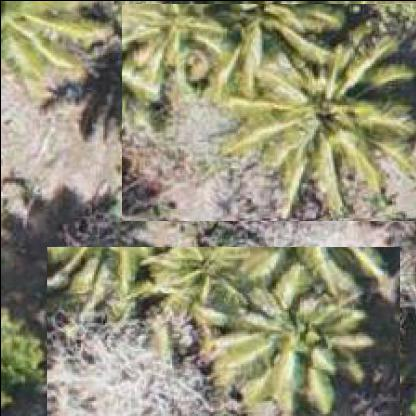coconut tree: (120, 1, 415, 221), (45, 245, 399, 415)
